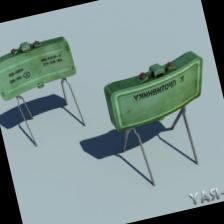MOH-50: (95, 38, 215, 136), (0, 24, 88, 111)
